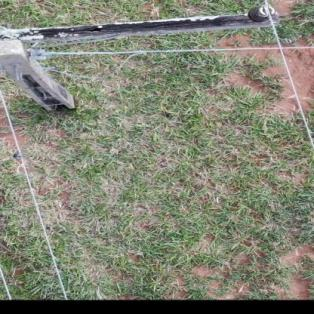Poste: (0, 42, 93, 123)
